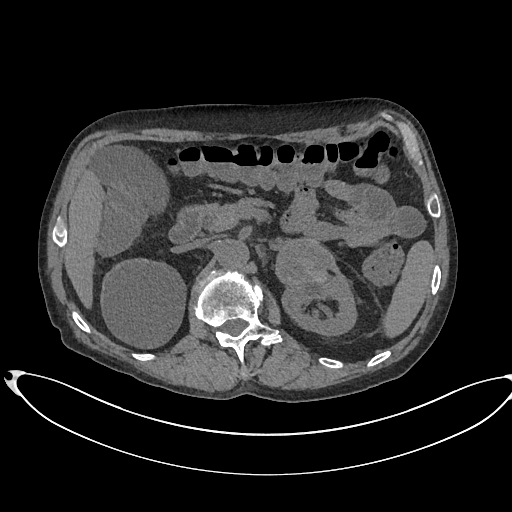Lesion: (271, 235, 336, 287)
